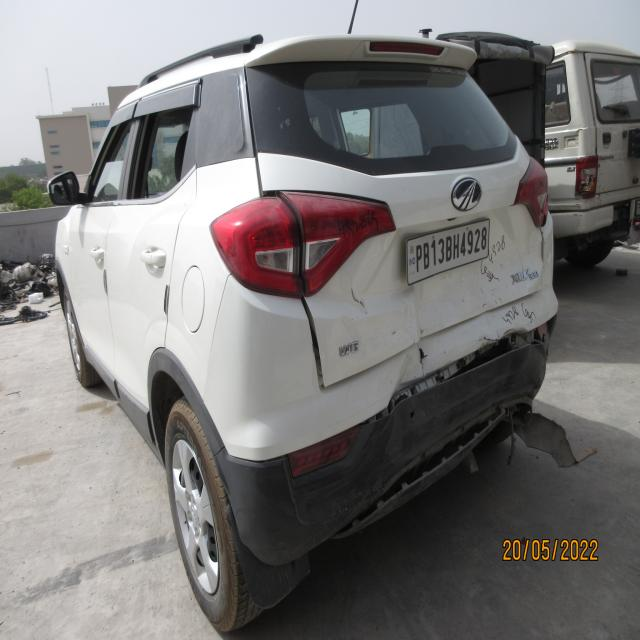damage: (354, 294, 560, 444), (387, 206, 543, 356), (343, 401, 514, 537), (507, 392, 596, 475), (245, 410, 281, 440), (346, 280, 371, 309)
